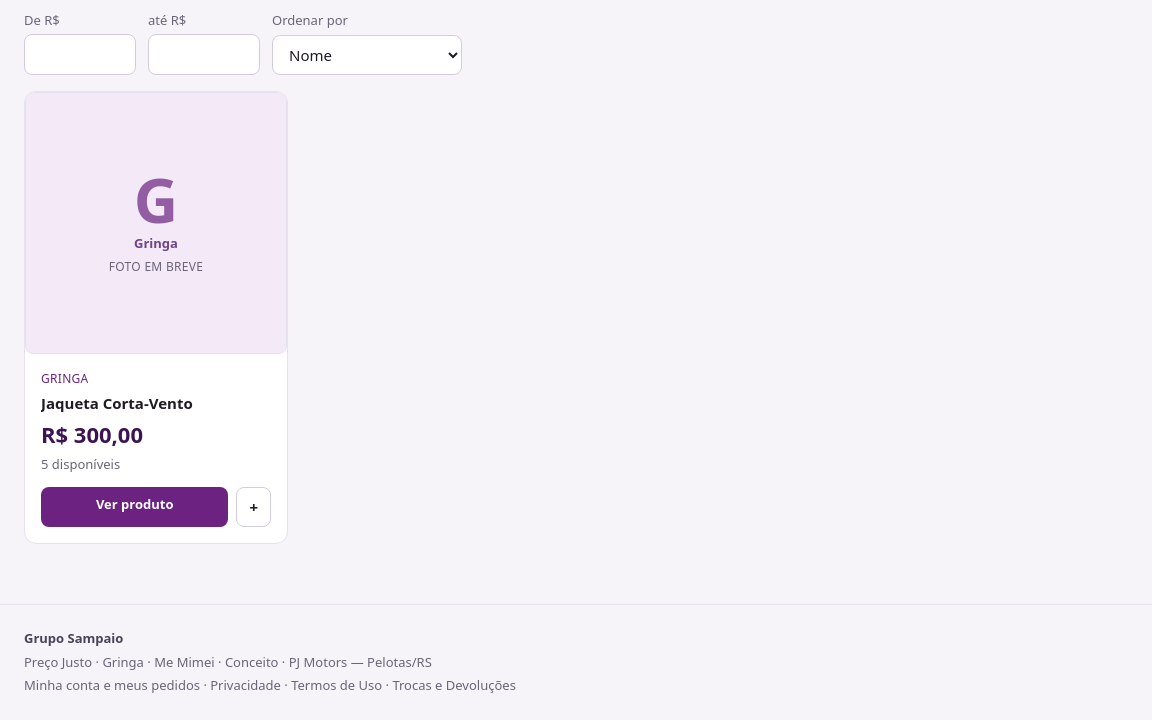
Test: o cupom na gaveta do carrinho › Enter no campo aplica o cupom e NÃO fecha o pedido
The width and height of the screenshot is (1152, 720).
(page scrolled)
Expected: the text "Jaqueta Corta-Vento" is shown, [41, 392, 193, 412]
Click the button "+": (254, 507) [236, 486, 271, 527]
(page scrolled)
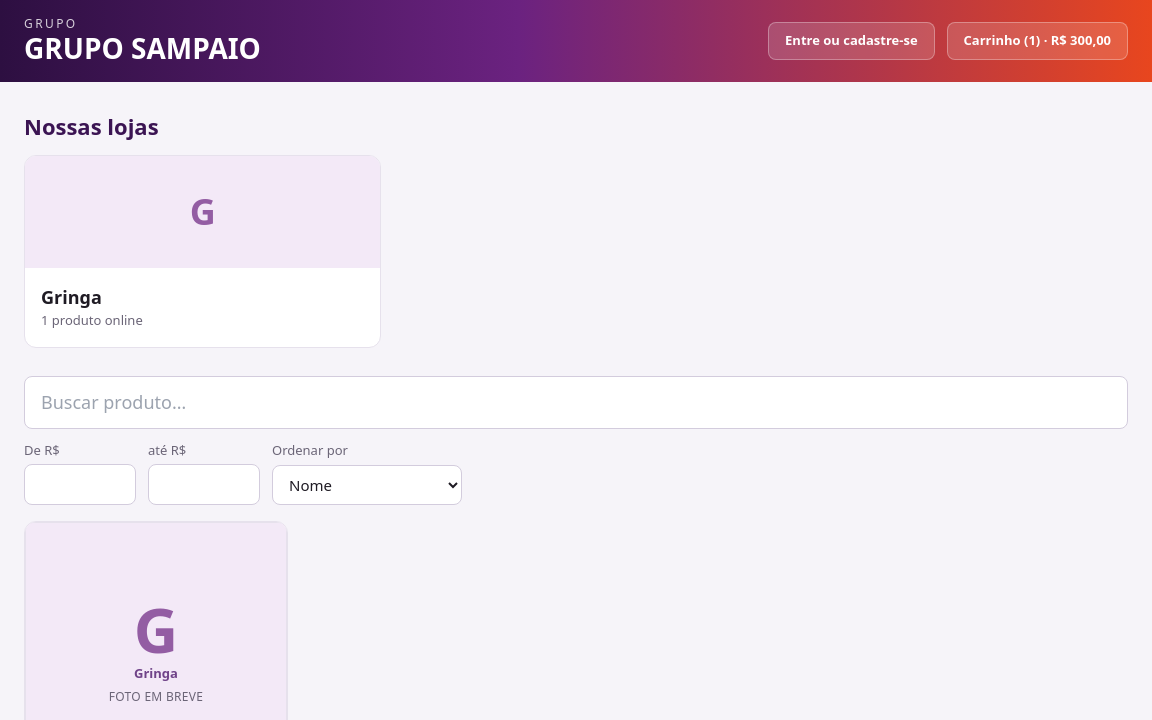
Click the button "Carrinho (1) · R$ 300,00": (1037, 41) [947, 22, 1128, 60]
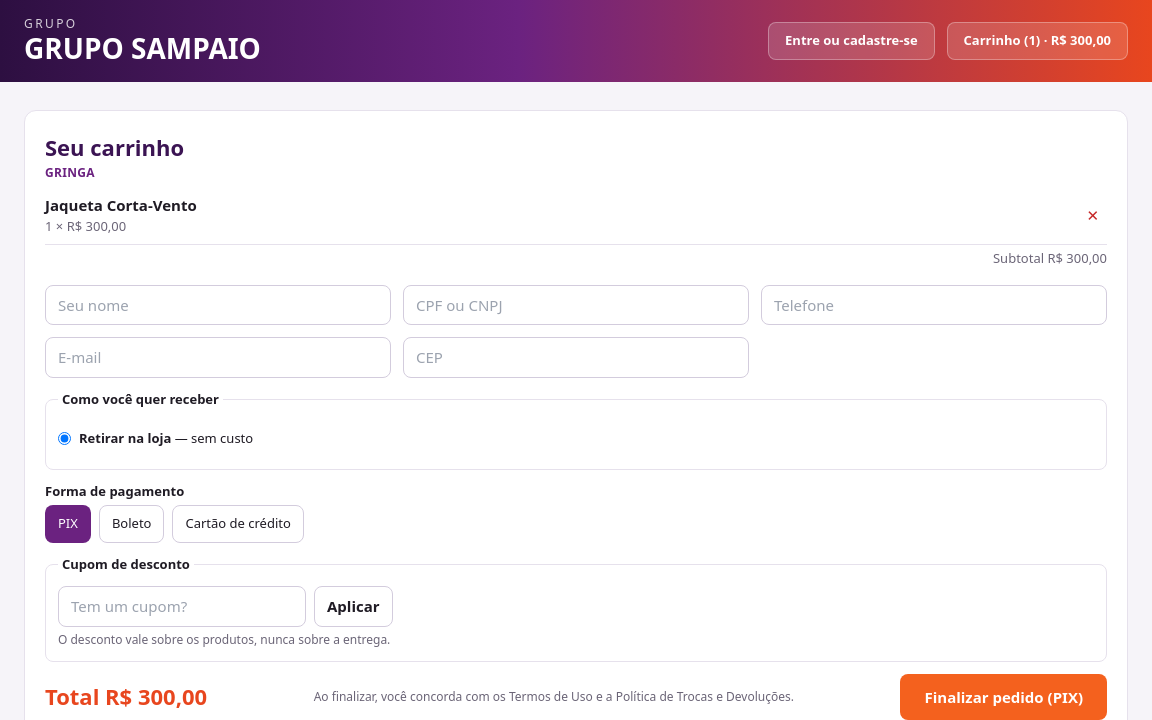
Now the text "Retirar na loja" is shown, box [79, 429, 171, 447]
In the field named "Código do cupom": (182, 606) [58, 586, 306, 626], type "DEZ"
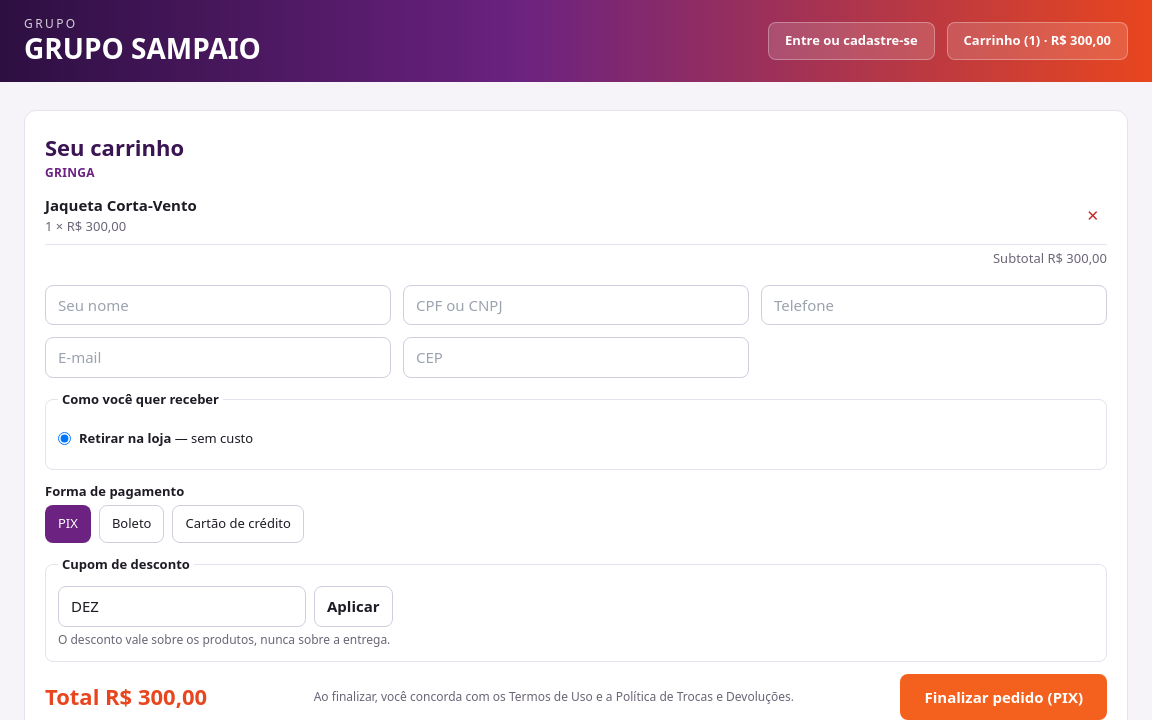
Press Enter in the field named "Código do cupom", box [58, 586, 306, 626]
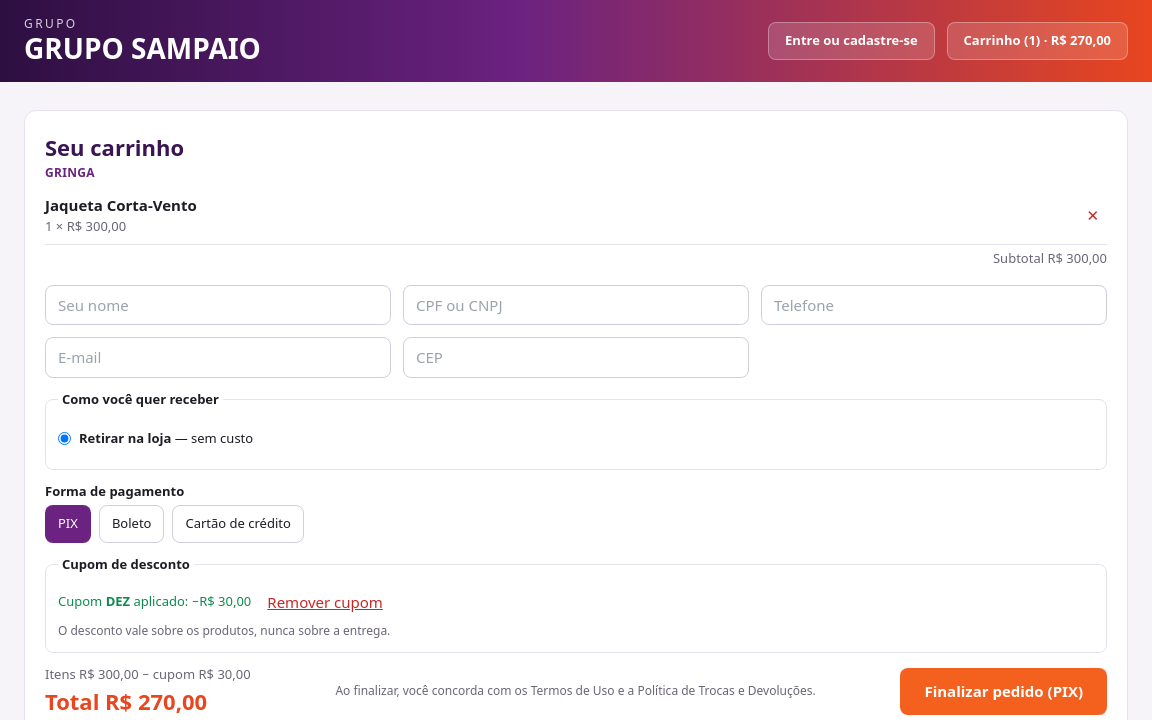
Now the text "Cupom DEZ aplicado: −R$ 30,00" is shown, box [58, 592, 251, 612]
